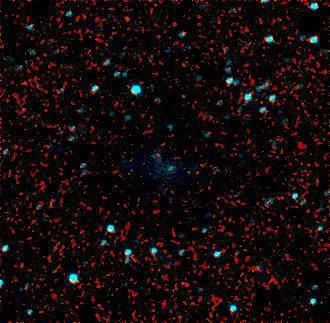star: (111, 5, 141, 35)
